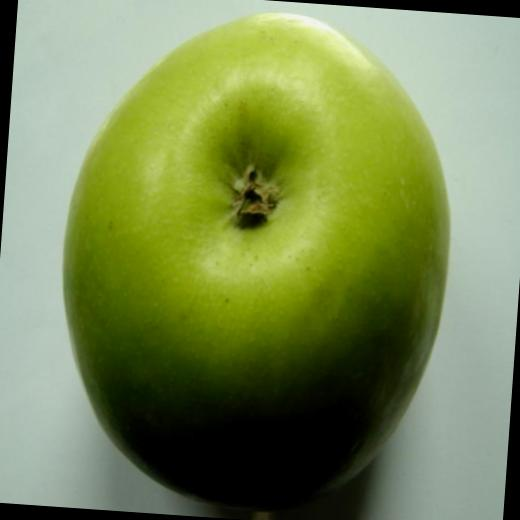Apple: (45, 0, 465, 520)
